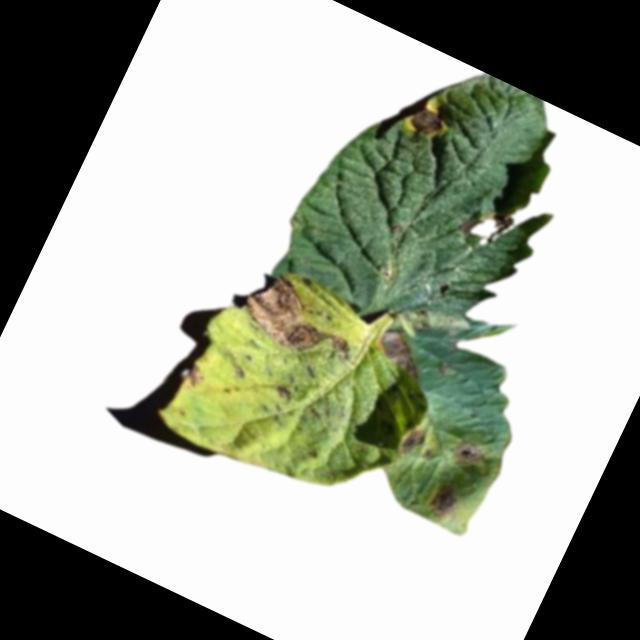Early_blight: (233, 266, 370, 377), (368, 324, 434, 381), (455, 197, 517, 253), (405, 103, 453, 145), (424, 478, 465, 522), (447, 437, 486, 474), (398, 427, 429, 464), (183, 363, 208, 390), (271, 384, 295, 405)
